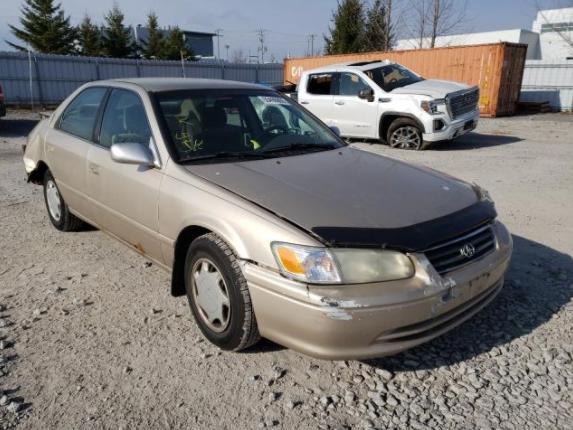Back-door: (44, 81, 113, 221)
Back-wheel: (43, 167, 84, 231)
Back-window: (56, 85, 111, 140)
Fender: (157, 155, 327, 297)
Front-bumper: (237, 218, 514, 361)
Front-door: (86, 80, 170, 265)
Front-wheel: (183, 232, 262, 353)
Front-window: (96, 88, 151, 164)
Grille: (421, 222, 500, 277)
Headlight: (271, 241, 415, 285)
Hood: (179, 145, 498, 253)
Mirror: (110, 135, 163, 170)
Quarter-panel: (21, 118, 50, 185)
Rocker-panel: (66, 205, 172, 276)
Roof: (102, 77, 273, 92)
Windshield: (148, 88, 344, 163)
